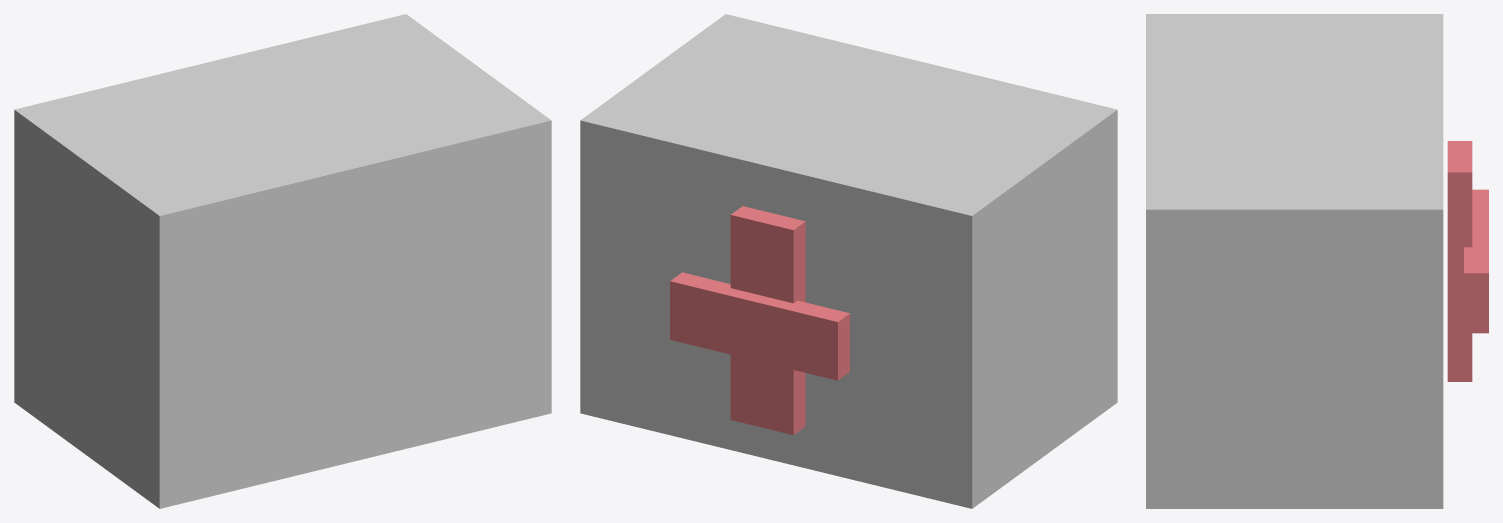
Rendered from botiquin.glb.
The picture shows the model from 3 angles, left to right: view 1: azimuth 30°, elevation 25°; view 2: azimuth 150°, elevation 25°; view 3: azimuth 270°, elevation 25°; orthographic projection. The views are drawn at different scales.
Parts seen in each view (by area): view 1: caja; view 2: caja, cruz2, cruz; view 3: caja, cruz, cruz2.
Boxes of the visible parts, box(x1,y1,x2,y2) form: caja: box(14, 14, 551, 508); caja: box(580, 14, 1117, 508); cruz2: box(670, 272, 849, 380); cruz: box(730, 206, 805, 435); caja: box(1146, 14, 1443, 508); cruz: box(1447, 141, 1472, 381); cruz2: box(1464, 189, 1488, 333).
Bounding box in the file's own units: 0.9 × 0.6429 × 0.667.
